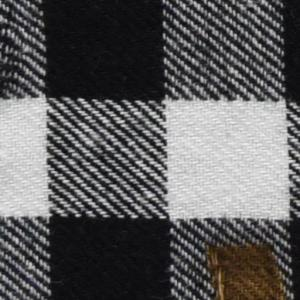Damage: (1, 1, 30, 103)
Oil Stain: (204, 241, 288, 300)
